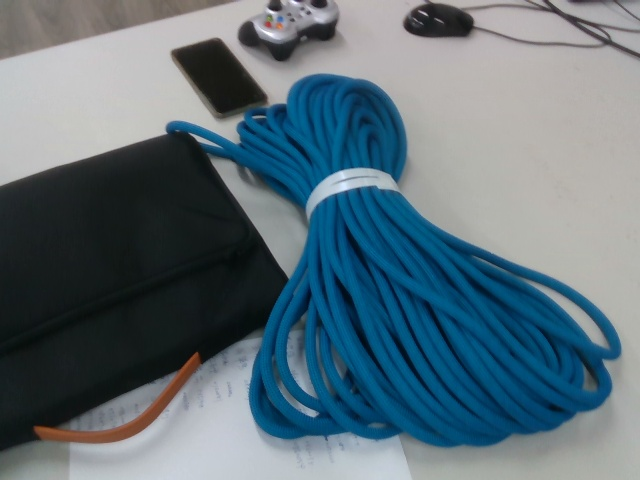rope: (162, 70, 625, 452)
